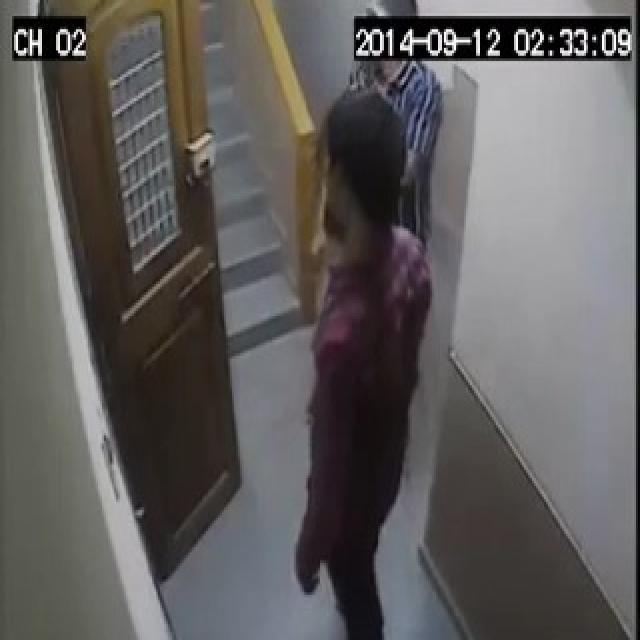thief: (296, 0, 456, 640)
